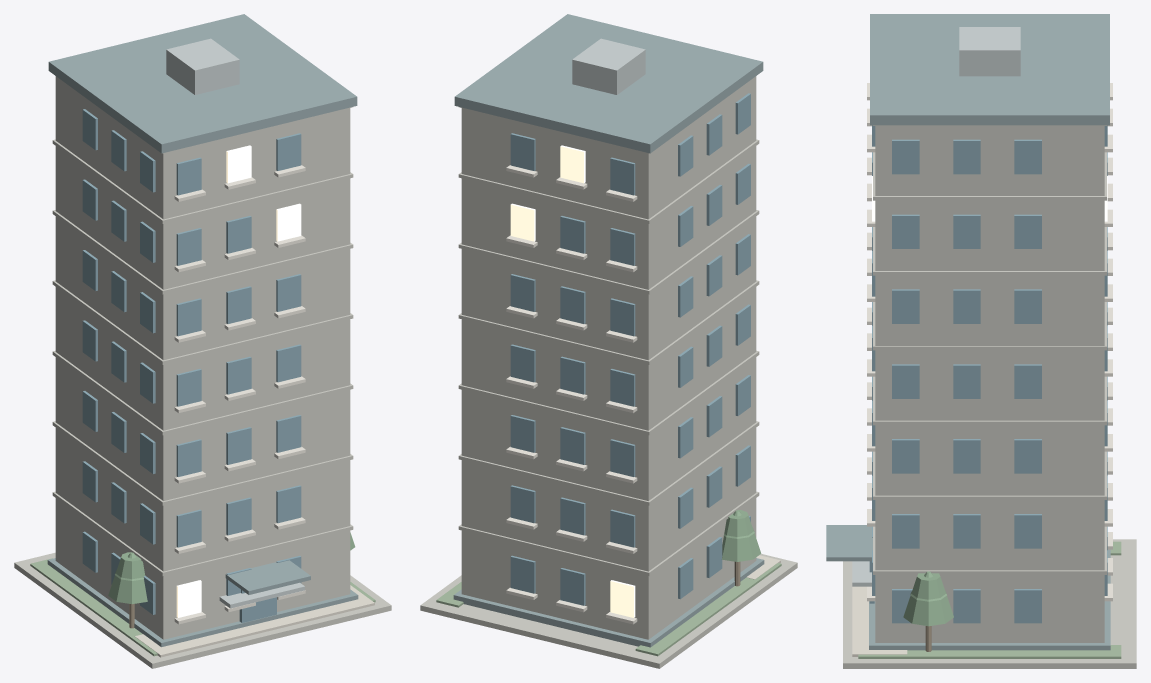
The model's file is remaster_office_2.glb.
The picture shows the model from 3 angles, left to right: view 1: azimuth 30°, elevation 25°; view 2: azimuth 150°, elevation 25°; view 3: azimuth 270°, elevation 25°; orthographic projection. The views are drawn at different scales.
Parts seen in each view (by area): view 1: remaster_office_2 stone, remaster_office_2 roof, remaster_office_2 glass, remaster_office_2 white, remaster_office_2 metal, remaster_office_2 warm, remaster_office_2 cream, remaster_office_2 green, remaster_office_2 leaf; view 2: remaster_office_2 stone, remaster_office_2 glass, remaster_office_2 roof, remaster_office_2 white, remaster_office_2 metal, remaster_office_2 warm, remaster_office_2 green, remaster_office_2 leaf; view 3: remaster_office_2 stone, remaster_office_2 roof, remaster_office_2 glass, remaster_office_2 white, remaster_office_2 metal, remaster_office_2 green, remaster_office_2 leaf, remaster_office_2 cream.
Part boxes in pixels (left/top/right/bottom): remaster_office_2 stone: left=14, top=76, right=391, bottom=668; remaster_office_2 roof: left=47, top=14, right=358, bottom=647; remaster_office_2 glass: left=82, top=109, right=301, bottom=622; remaster_office_2 white: left=174, top=165, right=305, bottom=624; remaster_office_2 metal: left=166, top=38, right=304, bottom=608; remaster_office_2 warm: left=176, top=145, right=301, bottom=617; remaster_office_2 cream: left=135, top=585, right=374, bottom=657; remaster_office_2 green: left=30, top=558, right=375, bottom=656; remaster_office_2 leaf: left=108, top=532, right=355, bottom=604; remaster_office_2 stone: left=420, top=76, right=797, bottom=668; remaster_office_2 glass: left=510, top=93, right=750, bottom=605; remaster_office_2 roof: left=453, top=14, right=764, bottom=647; remaster_office_2 white: left=506, top=165, right=637, bottom=624; remaster_office_2 metal: left=572, top=38, right=645, bottom=94; remaster_office_2 warm: left=510, top=145, right=635, bottom=617; remaster_office_2 green: left=436, top=563, right=781, bottom=656; remaster_office_2 leaf: left=722, top=510, right=761, bottom=561; remaster_office_2 stone: left=843, top=125, right=1136, bottom=668; remaster_office_2 roof: left=826, top=14, right=1110, bottom=650; remaster_office_2 glass: left=869, top=125, right=1107, bottom=623; remaster_office_2 white: left=867, top=83, right=1112, bottom=601; remaster_office_2 metal: left=852, top=27, right=1020, bottom=586; remaster_office_2 green: left=858, top=541, right=1121, bottom=658; remaster_office_2 leaf: left=903, top=571, right=953, bottom=626; remaster_office_2 cream: left=852, top=586, right=907, bottom=656.
Bounding box in the file's own units: 9.64 × 20.5 × 10.15.
